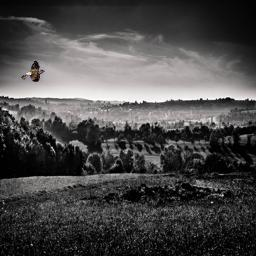Swallow: (21, 60, 45, 82)
